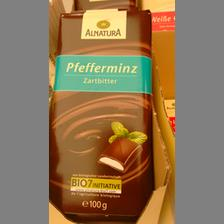Schokolade: (48, 11, 154, 216)
